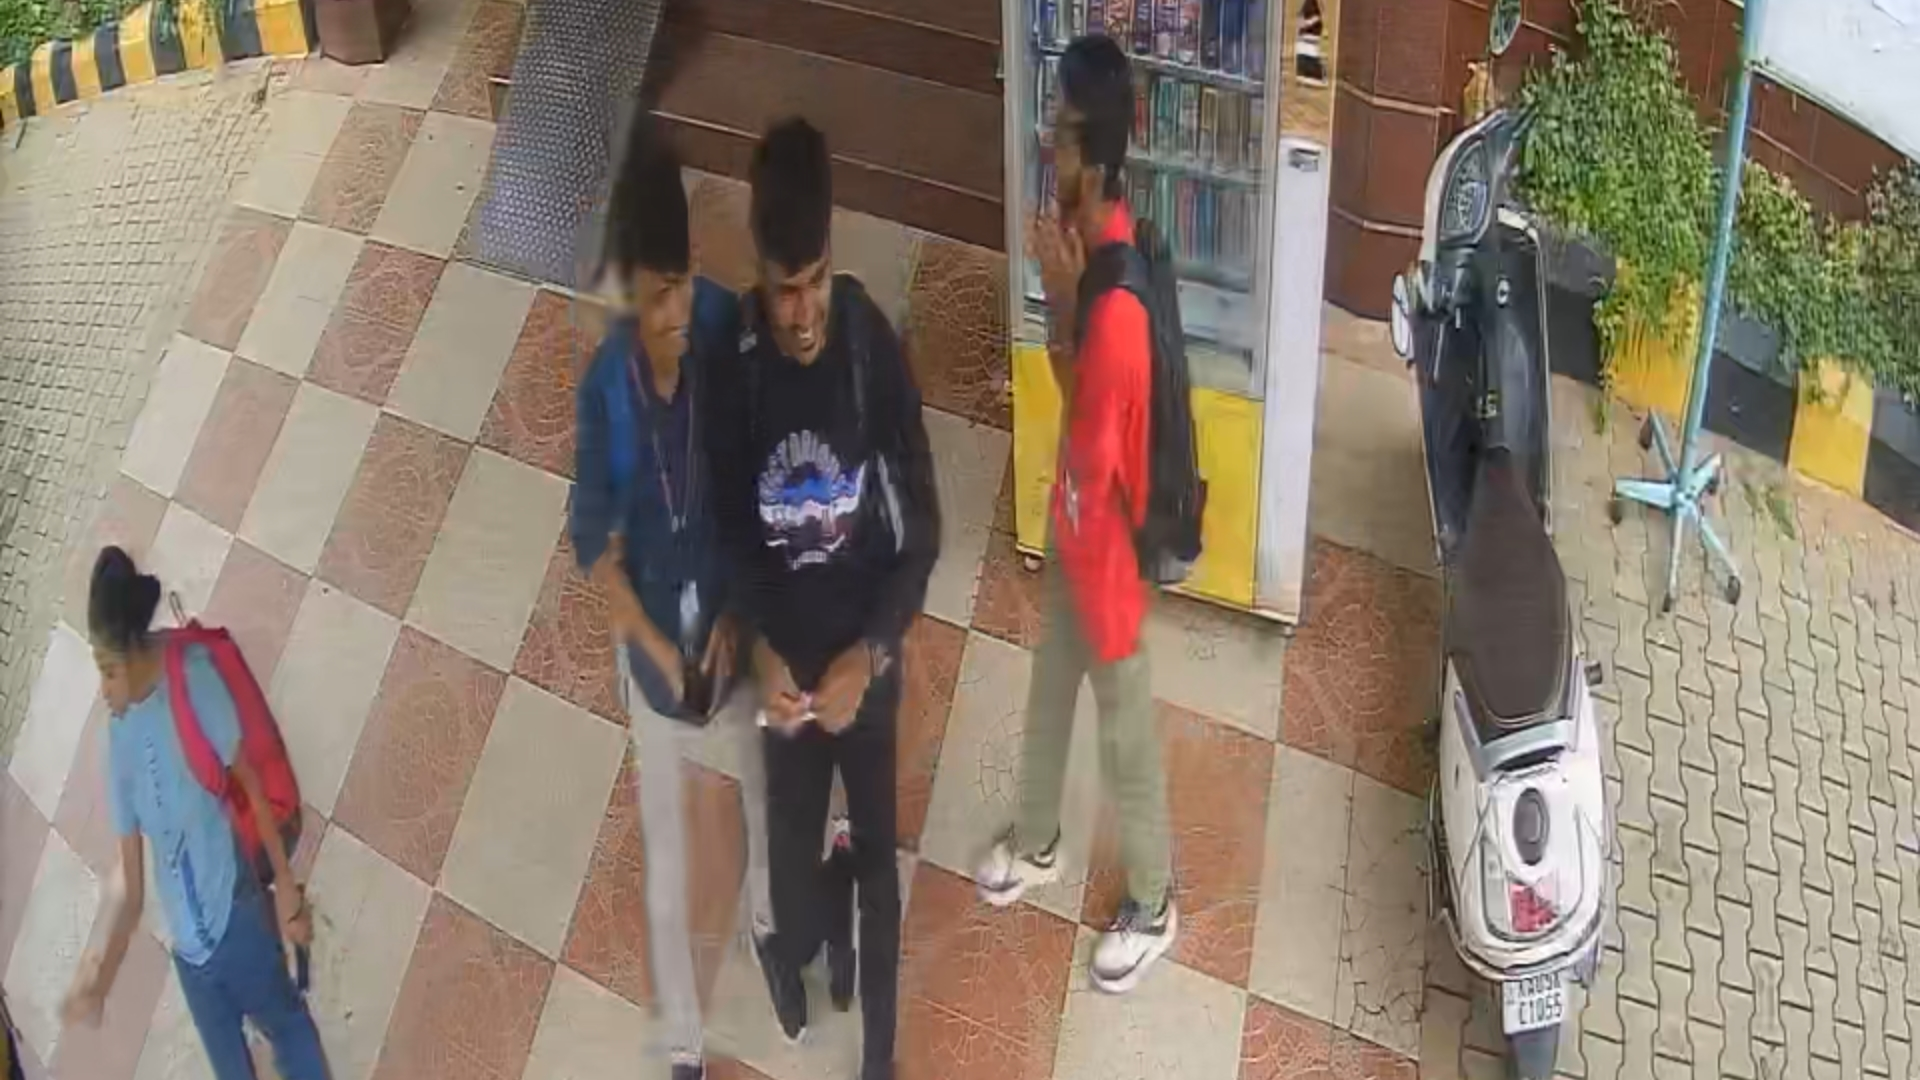intruder: (719, 88, 926, 1080)
not intruder: (554, 133, 770, 1080)
